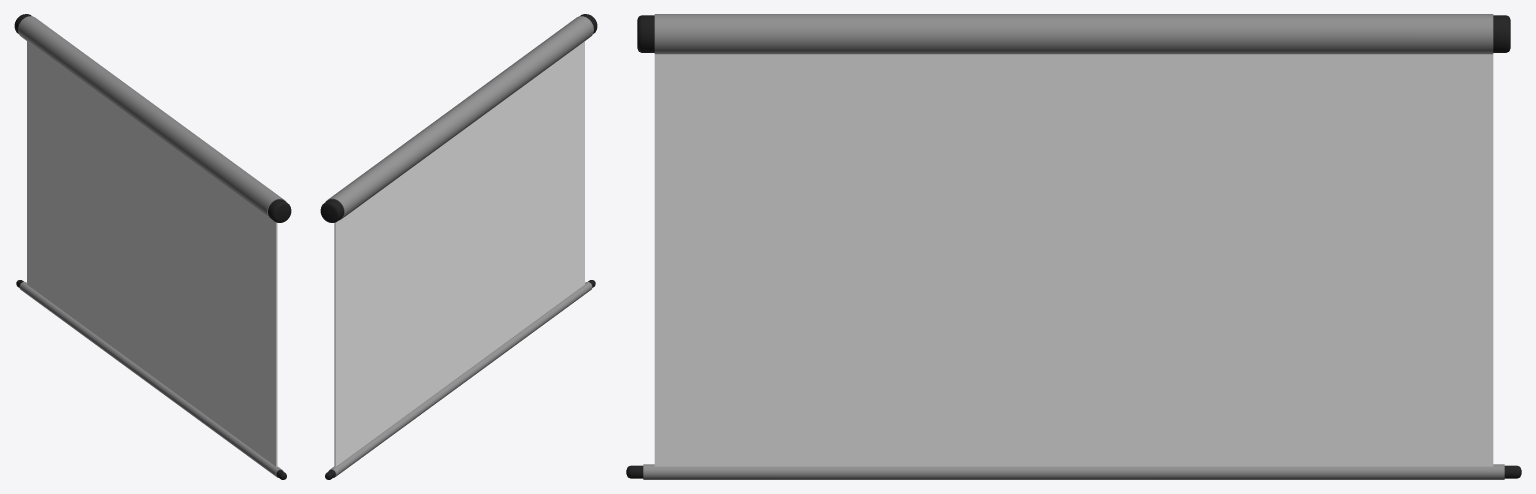
File: Writing-Board.fbx
3 views of the same model, side by side, from view 1: azimuth 30°, elevation 25°; view 2: azimuth 150°, elevation 25°; view 3: azimuth 270°, elevation 25° (orthographic). The views are drawn at different scales.
Visible parts, largest first — view 1: Writing-Board; view 2: Writing-Board; view 3: Writing-Board.
Part boxes in pixels (x1=…): Writing-Board: x1=14, y1=14, x2=291, y2=479; Writing-Board: x1=320, y1=14, x2=597, y2=479; Writing-Board: x1=626, y1=14, x2=1521, y2=479.
Bounding box in the file's own units: 0.3145 × 3.98 × 6.94.
